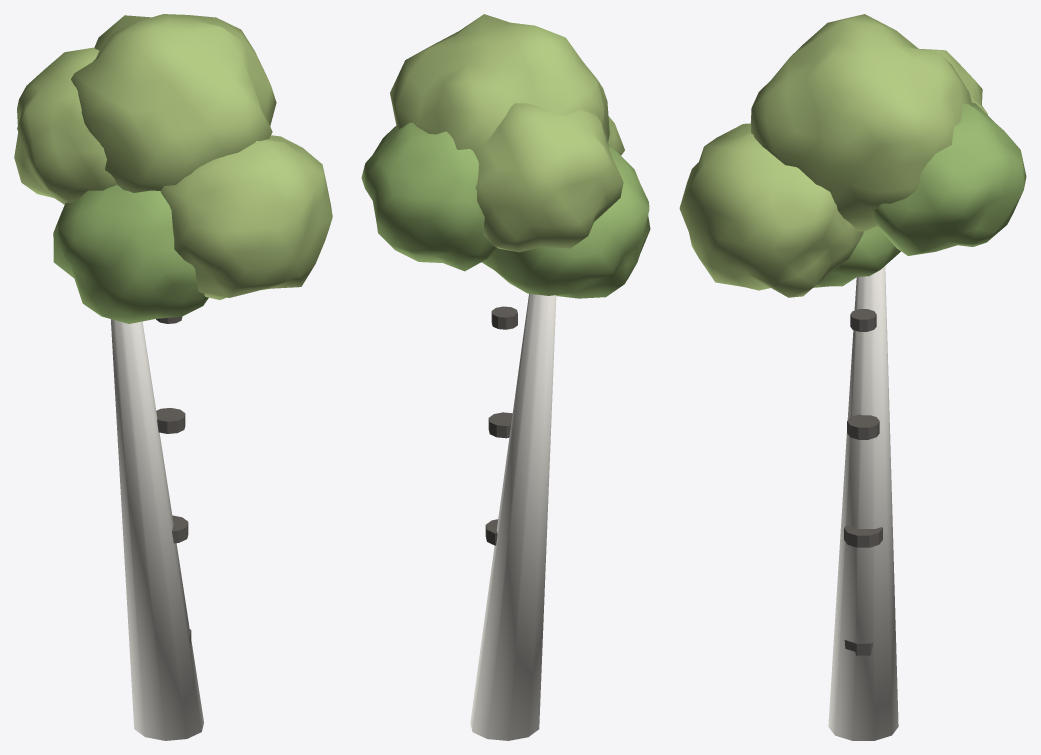
The model's file is tree_birch.glb.
The picture shows the model from 3 angles, left to right: view 1: azimuth 30°, elevation 25°; view 2: azimuth 150°, elevation 25°; view 3: azimuth 270°, elevation 25°; orthographic projection.
Visible parts, largest first — view 1: Icosphere, Cone, Icosphere.004, Icosphere.003, Icosphere.002, Cylinder.002; view 2: Cone, Icosphere, Icosphere.002, Icosphere.001, Icosphere.003, Cylinder.003, Cylinder.002; view 3: Icosphere, Cone, Icosphere.004, Icosphere.001, Icosphere.003, Cylinder.002, Icosphere.002, Cylinder.001.
Part boxes in pixels (x1=…): Icosphere: x1=71, y1=14, x2=276, y2=192; Cone: x1=111, y1=319, x2=203, y2=740; Icosphere.004: x1=161, y1=135, x2=332, y2=299; Icosphere.003: x1=53, y1=185, x2=208, y2=323; Icosphere.002: x1=14, y1=47, x2=116, y2=204; Cylinder.002: x1=156, y1=408, x2=185, y2=433; Cone: x1=470, y1=294, x2=556, y2=740; Icosphere: x1=390, y1=14, x2=609, y2=150; Icosphere.002: x1=473, y1=103, x2=623, y2=252; Icosphere.001: x1=361, y1=122, x2=496, y2=271; Icosphere.003: x1=481, y1=143, x2=650, y2=298; Cylinder.003: x1=491, y1=306, x2=517, y2=329; Cylinder.002: x1=488, y1=412, x2=512, y2=438; Icosphere: x1=750, y1=14, x2=972, y2=231; Cone: x1=828, y1=266, x2=898, y2=740; Icosphere.004: x1=679, y1=123, x2=863, y2=297; Icosphere.001: x1=871, y1=102, x2=1026, y2=255; Icosphere.003: x1=813, y1=226, x2=900, y2=287; Cylinder.002: x1=847, y1=414, x2=879, y2=439; Icosphere.002: x1=919, y1=49, x2=987, y2=114; Cylinder.001: x1=844, y1=525, x2=882, y2=547.
Size of the model in its own units: 1.42 by 4.05 by 1.83.
